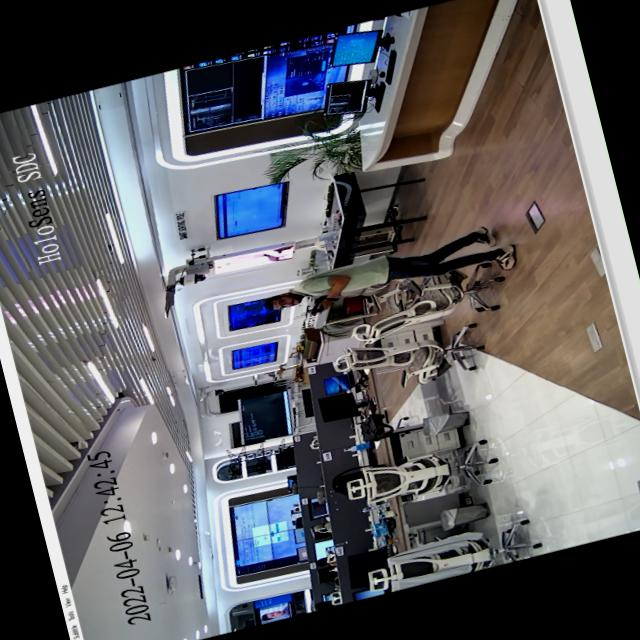long weapon: (296, 288, 344, 320)
